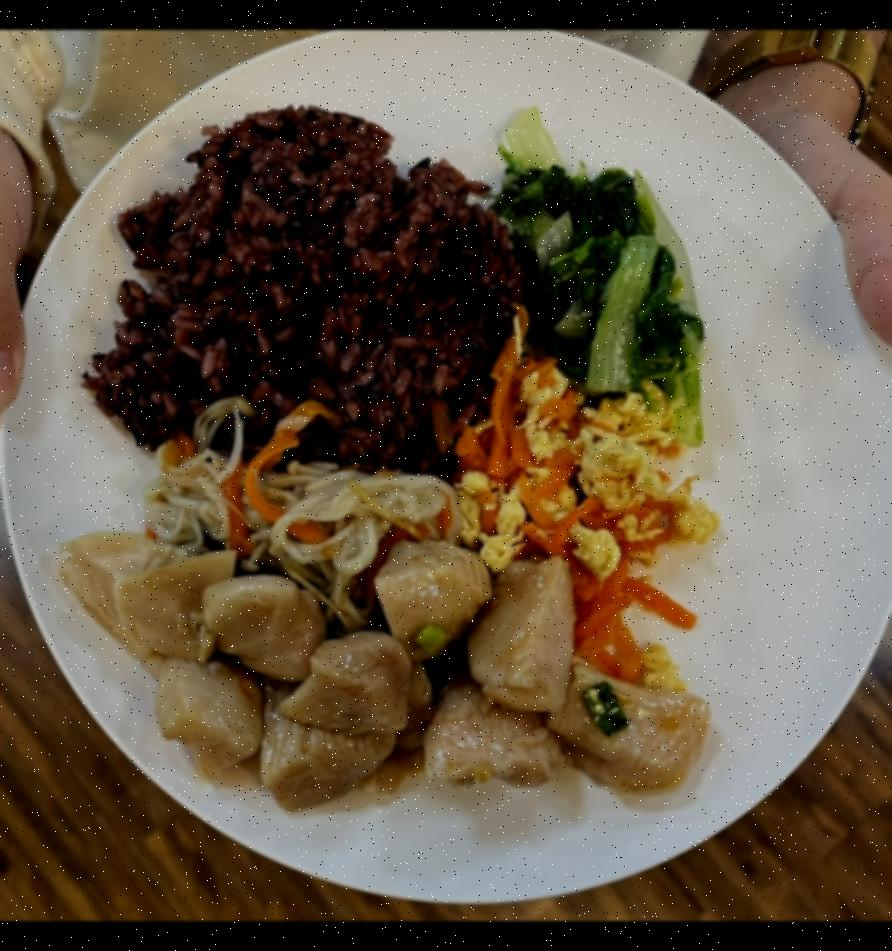plate: (0, 29, 892, 911)
purple rice: (84, 102, 514, 459)
scallion chicken: (49, 517, 711, 817)
side dish: (465, 361, 719, 625), (494, 113, 709, 413), (139, 431, 452, 590)
